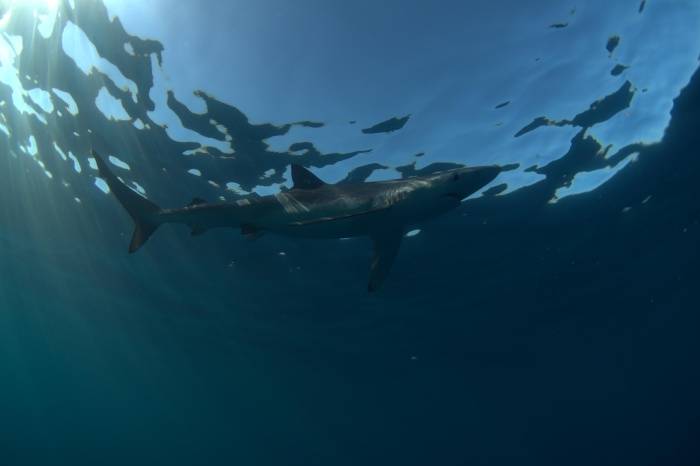Azul: (72, 126, 516, 311)
